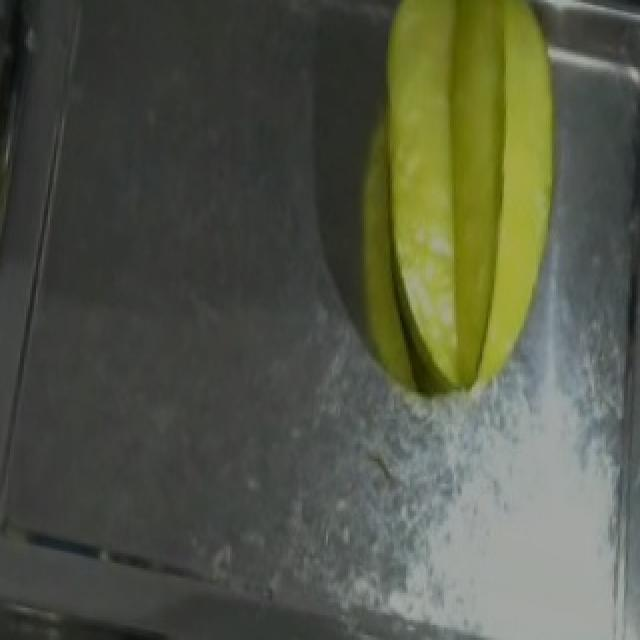Fruit: (0, 20, 44, 352)
